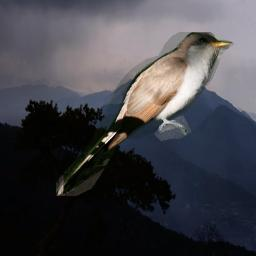Cuckoo: (56, 32, 234, 196)
